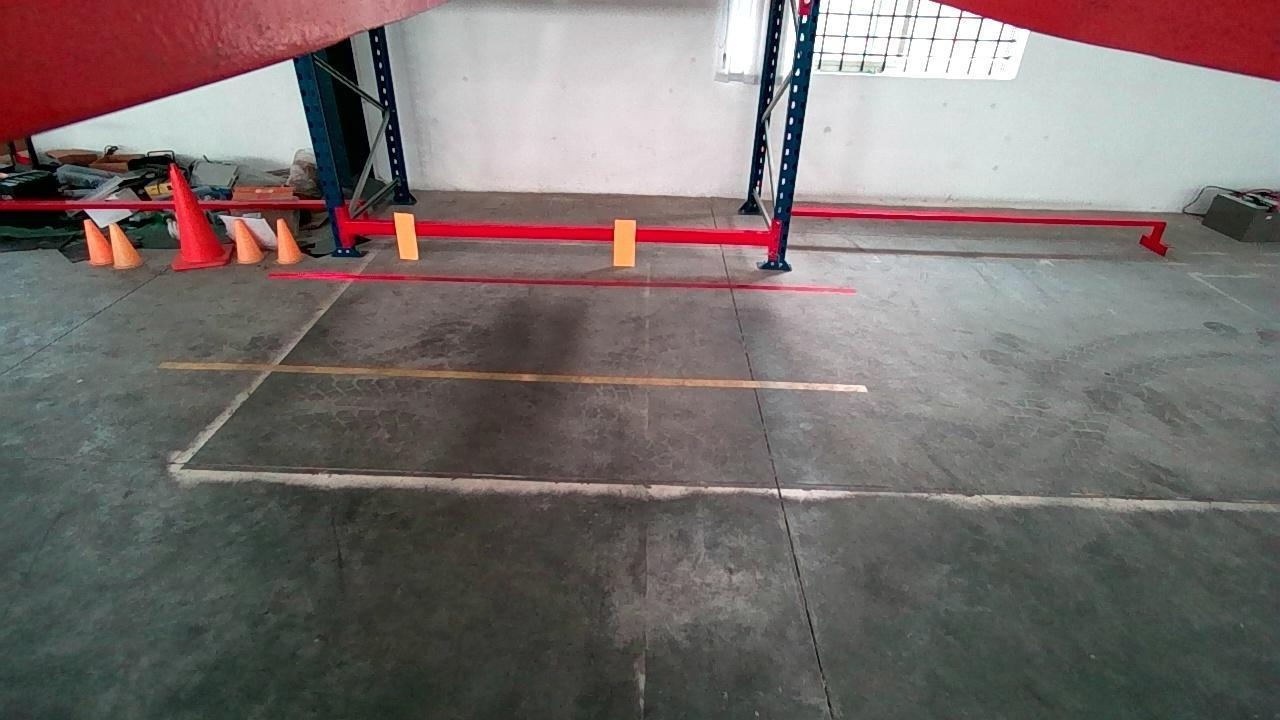h_rack: (350, 219, 771, 243)
orange_strip: (394, 212, 419, 258), (614, 220, 636, 263)
red_line: (267, 269, 857, 293)
yellow_line: (158, 353, 867, 392)
